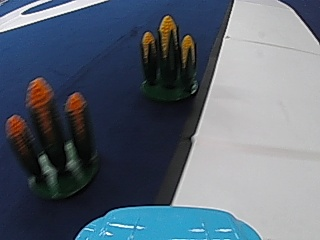corn: (6, 71, 102, 200), (134, 10, 200, 102)
